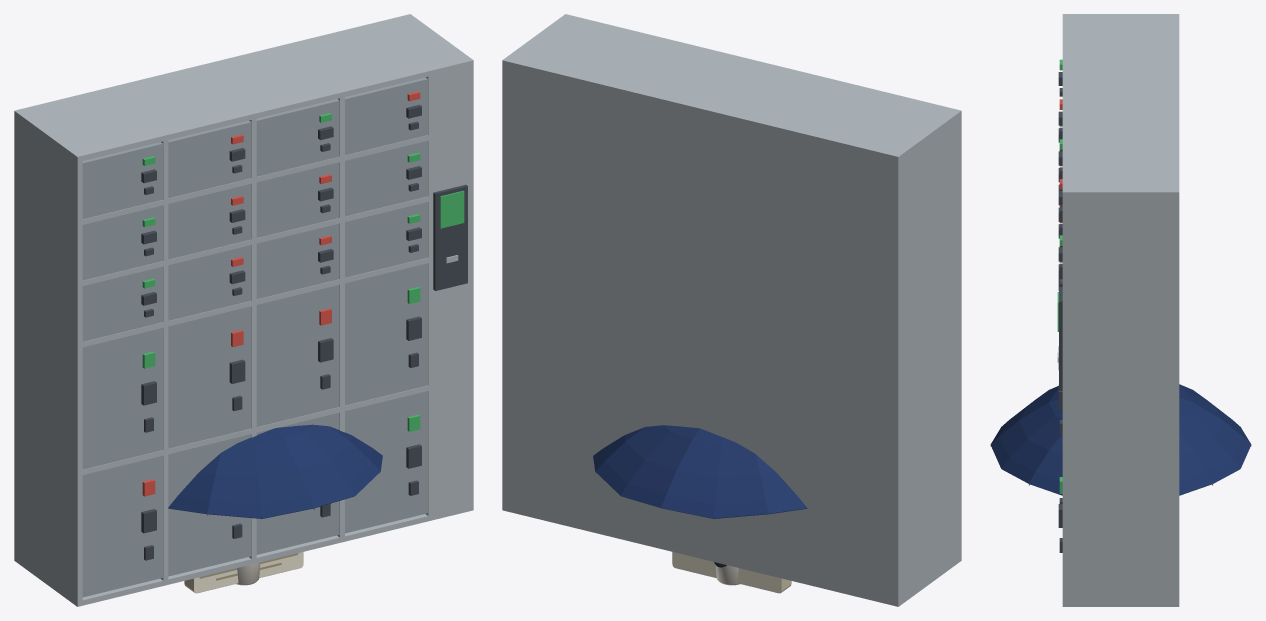
File: items.glb
3 views of the same model, side by side, from view 1: azimuth 30°, elevation 25°; view 2: azimuth 150°, elevation 25°; view 3: azimuth 270°, elevation 25° (orthographic). The views are drawn at different scales.
Visible parts, largest first — view 1: FURN_Locker__Body, ITM09_UmbrellaOpen, FURN_Locker__Door05, FURN_Locker__Door06, FURN_Locker__Door07, FURN_Locker__Door04, FURN_Locker__Door00, FURN_Locker__Door03, FURN_Locker__Door01, FURN_Locker__Door17, FURN_Locker__Door18, FURN_Locker__Door19 (+11 smaller); view 2: FURN_Locker__Body, ITM09_UmbrellaOpen, ITM08_Paper; view 3: FURN_Locker__Body, ITM09_UmbrellaOpen.
Boxes of the visible parts, <box> form: FURN_Locker__Body: <box>14,14,473,606</box>; ITM09_UmbrellaOpen: <box>168,424,382,518</box>; FURN_Locker__Door05: <box>168,306,251,448</box>; FURN_Locker__Door06: <box>256,285,339,426</box>; FURN_Locker__Door07: <box>345,263,427,405</box>; FURN_Locker__Door04: <box>82,328,162,469</box>; FURN_Locker__Door00: <box>82,455,162,597</box>; FURN_Locker__Door03: <box>345,391,427,533</box>; FURN_Locker__Door01: <box>168,434,251,576</box>; FURN_Locker__Door17: <box>168,120,251,198</box>; FURN_Locker__Door18: <box>256,99,339,176</box>; FURN_Locker__Door19: <box>345,77,427,155</box>; FURN_Locker__Body: <box>502,14,961,606</box>; ITM09_UmbrellaOpen: <box>593,425,807,567</box>; ITM08_Paper: <box>672,552,791,593</box>; FURN_Locker__Body: <box>1057,14,1179,606</box>; ITM09_UmbrellaOpen: <box>990,384,1251,495</box>.
Size of the model in its own units: 0.94 by 1.12 by 0.5819.
